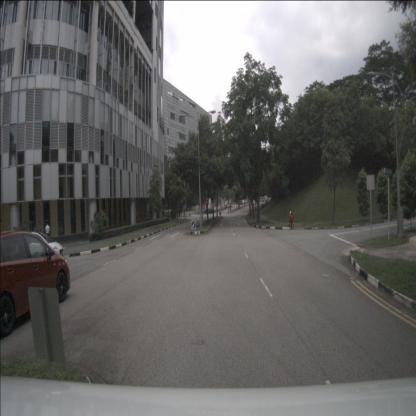human-pedestrian-adult: (288, 210, 295, 230), (45, 222, 50, 245)
vehicle-car: (0, 231, 71, 338), (6, 230, 64, 262), (205, 208, 213, 215)
